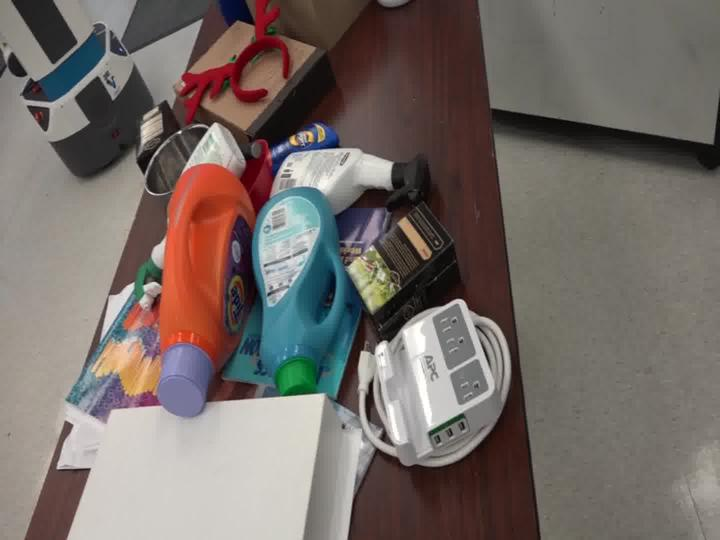downy: (234, 164, 357, 387)
